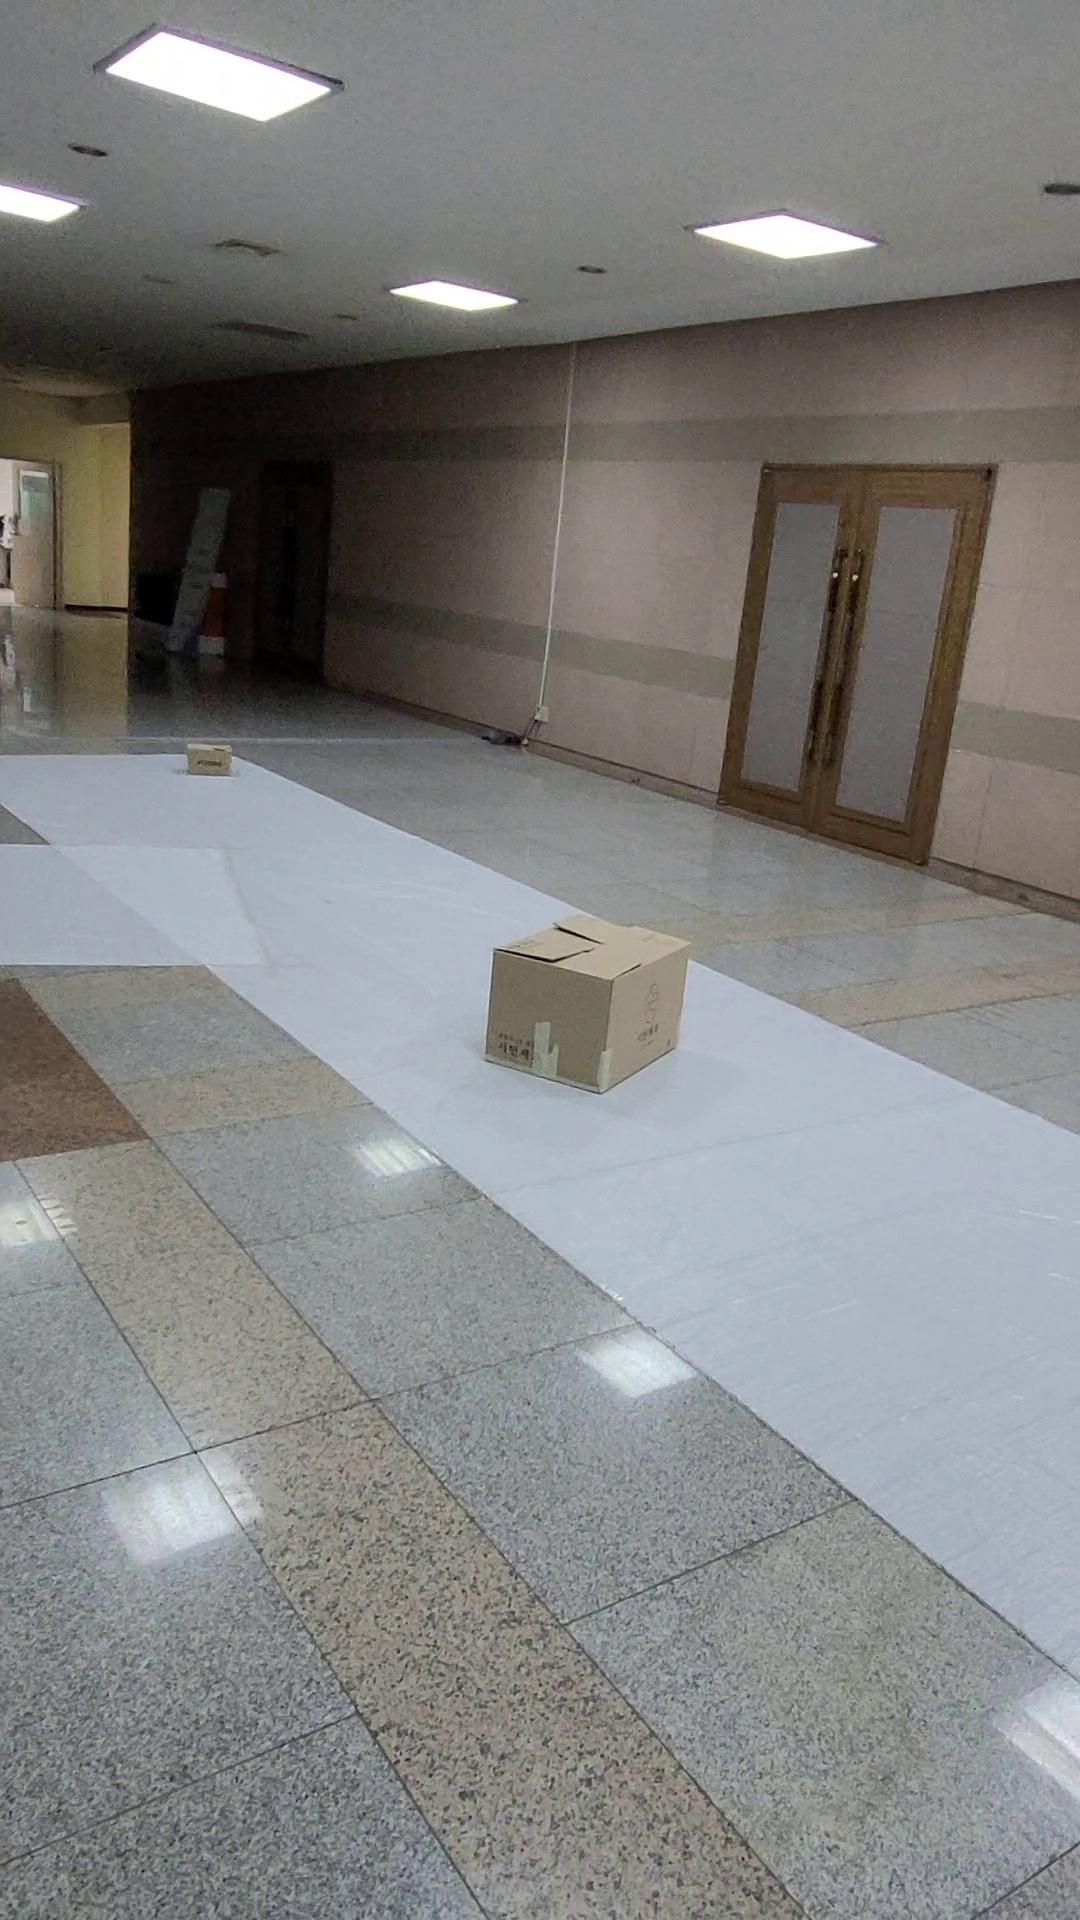Box: (481, 880, 712, 1127), (175, 709, 260, 795)
